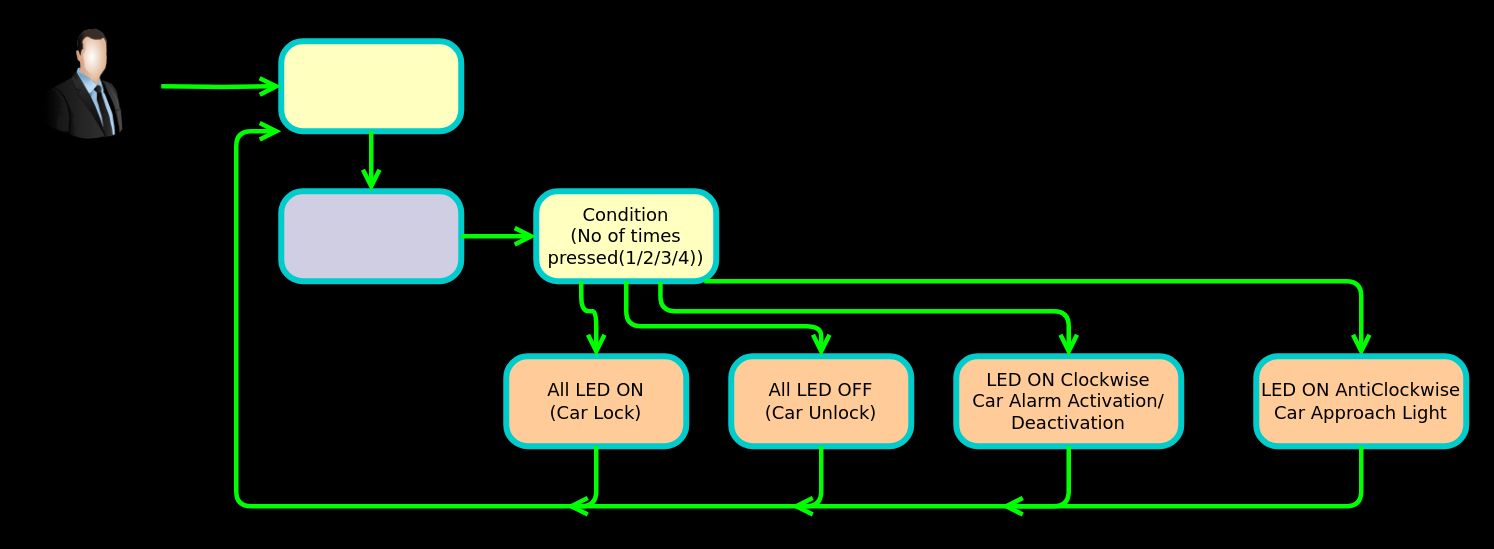
The diagram is 1494 pixels wide and 549 high, and some of its shapes have lost their labels. The shapes that lost their labels are listed below. From the top down, each one's centre as x and y in pixels, then its label:
the point at 371,86: User Button Press
the point at 371,236: Encryption
